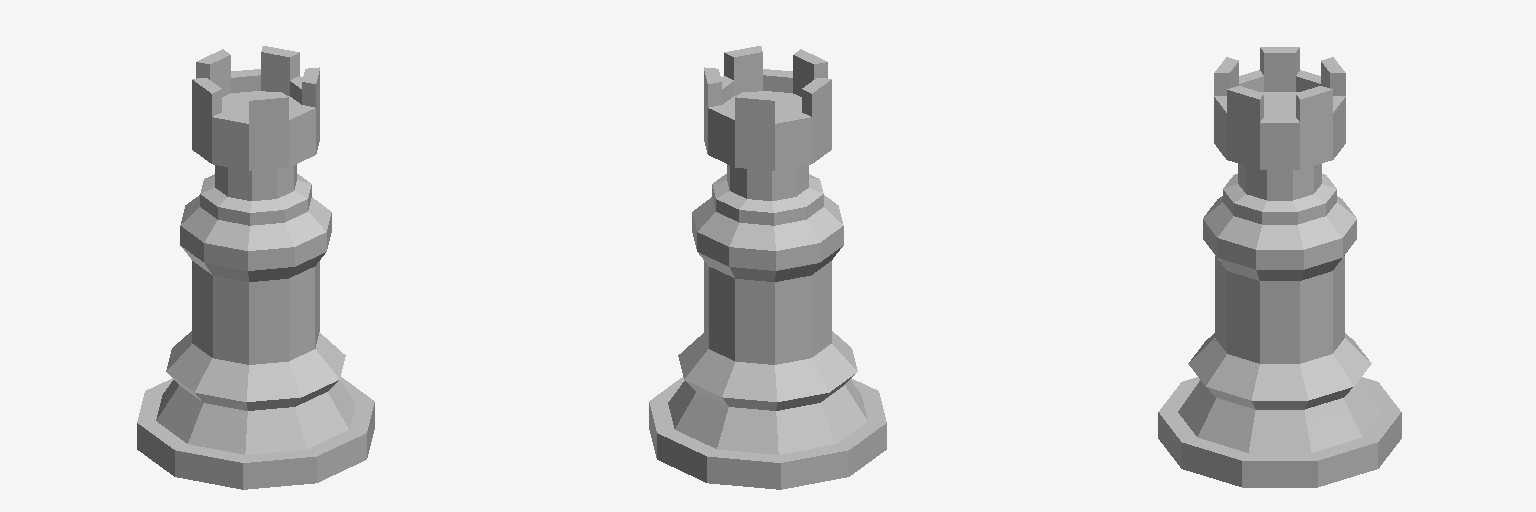
The model's file is tower.obj.
The picture shows the model from 3 angles: view 1: azimuth 30°, elevation 25°; view 2: azimuth 150°, elevation 25°; view 3: azimuth 270°, elevation 25°; orthographic projection.
Size of the model in its own units: 0.9385 by 1.64 by 0.9868.